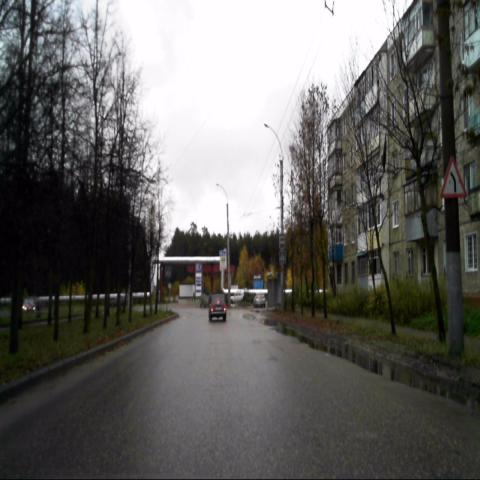1_11_1: (440, 156, 468, 201)
